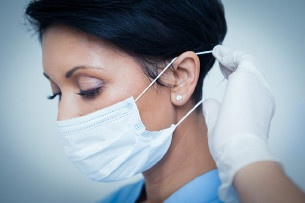Mask: (40, 54, 168, 183)
